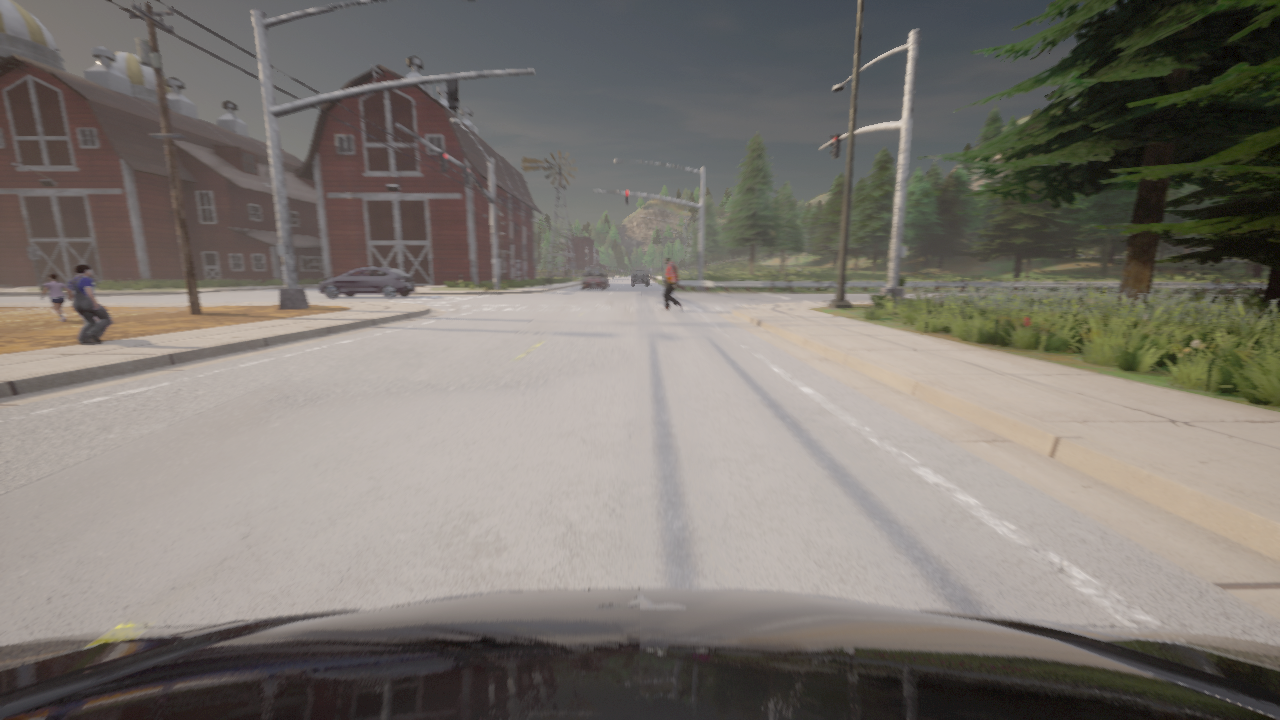cyclist: (0, 588, 1279, 719), (319, 267, 414, 297), (582, 268, 607, 289), (631, 271, 648, 284)
pedestrian: (67, 263, 111, 343), (41, 272, 70, 322), (662, 256, 682, 310)
